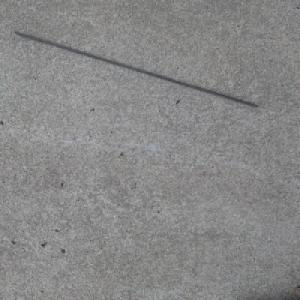LuggagePart: (13, 31, 259, 108)
